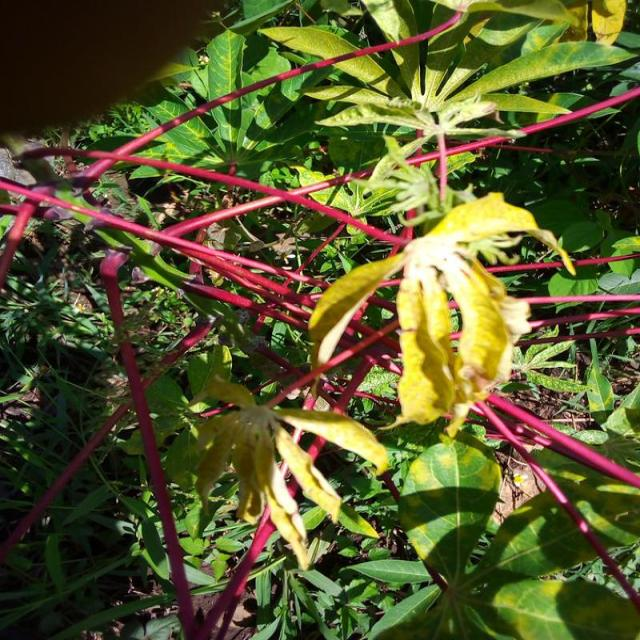cassava leaf: (306, 189, 576, 435), (396, 433, 502, 586)
